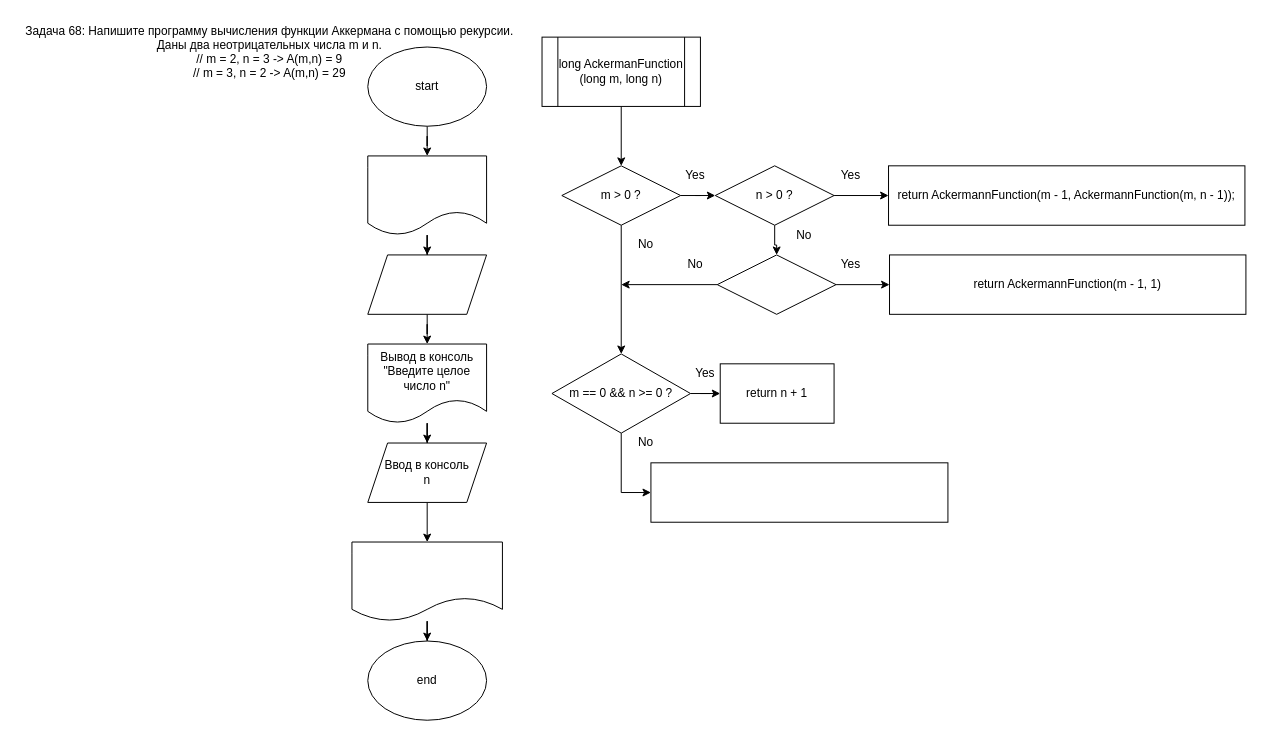
Image size: 1263x738. Some labels were removed from this diagram. The shapes that lost their labels are listed below. From the top down, each one's centre as x and y in pixels, then its label:
the point at 427,195: Вывод в консоль "Введите целое число m"
the point at 427,284: Ввод в консоль m
the point at 776,284: n == 0 ?
the point at 799,492: throw new System.ArgumentOutOfRangeException();
the point at 426,581: Вывод в консоль AckermanFunction(m, n)
